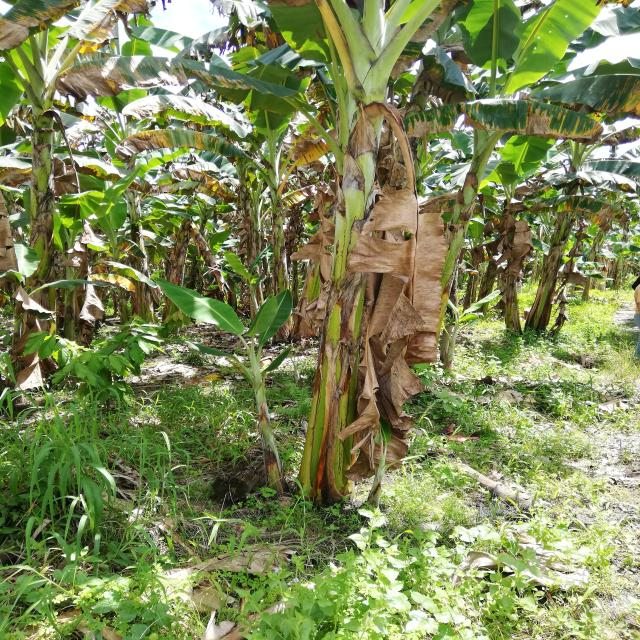Banana-plant: (308, 46, 385, 507), (426, 117, 500, 381), (13, 85, 67, 382), (259, 148, 292, 344)
